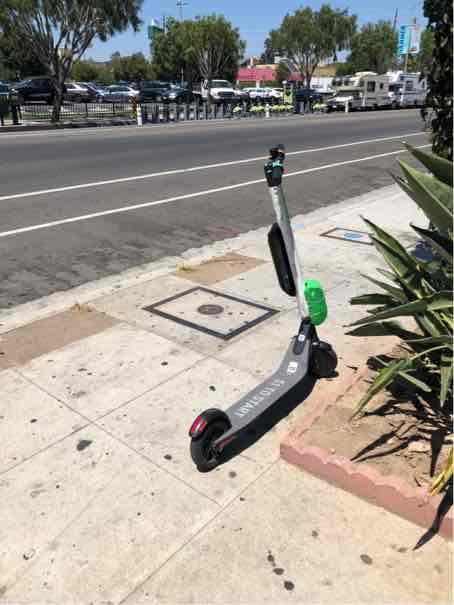scooter: (189, 138, 342, 476)
